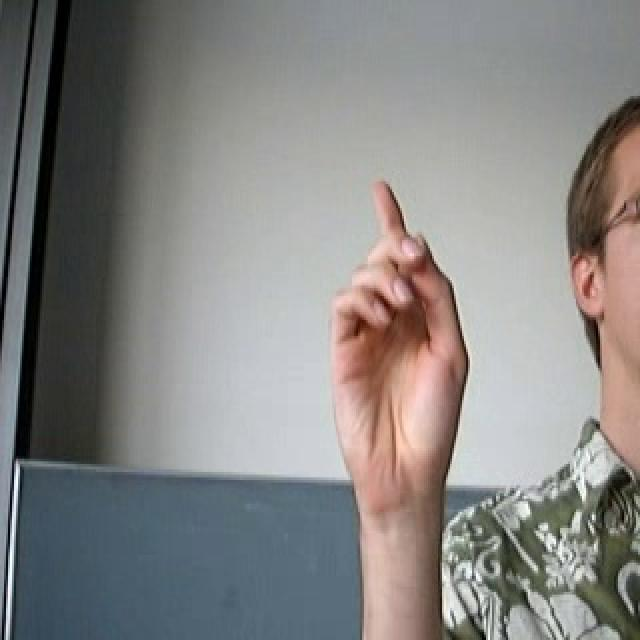D: (296, 158, 491, 542)
